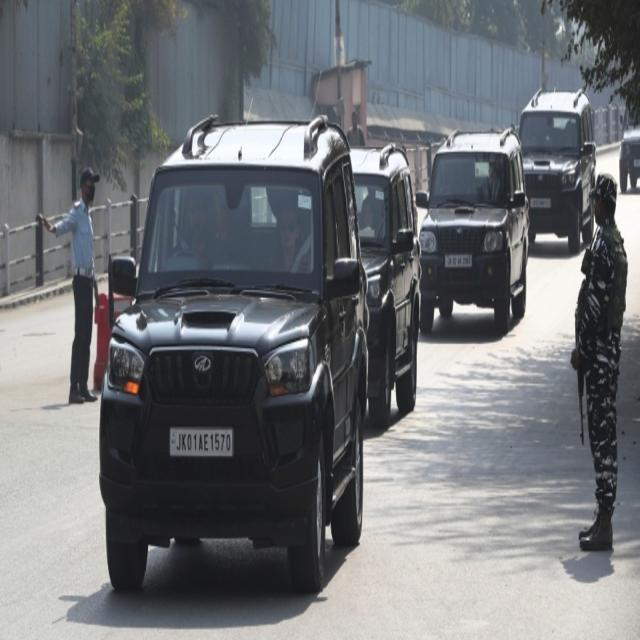plate: (167, 425, 234, 458), (440, 253, 478, 270), (528, 197, 558, 210)
